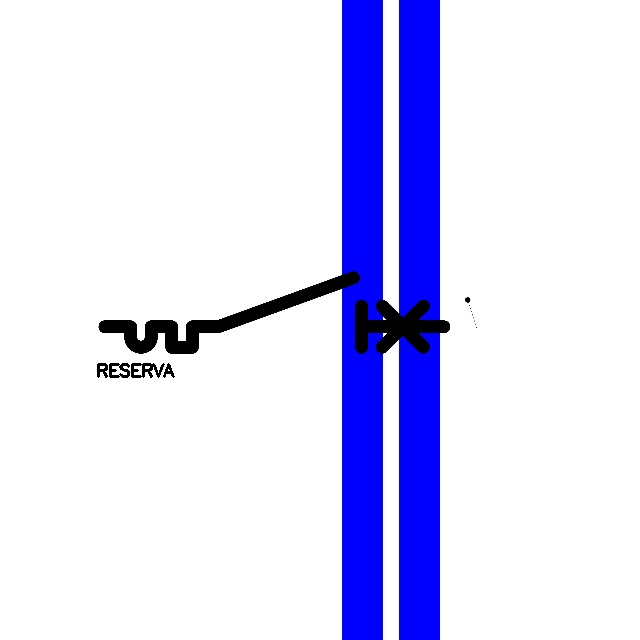interruptor_termomagnetico: (96, 269, 452, 356)
